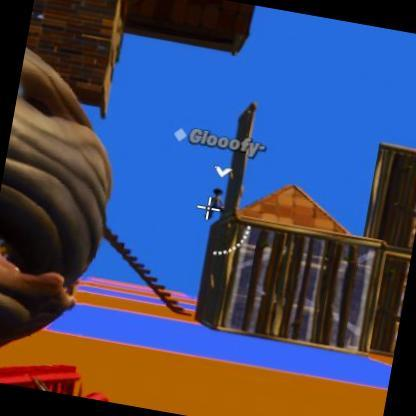person: (206, 182, 223, 216)
